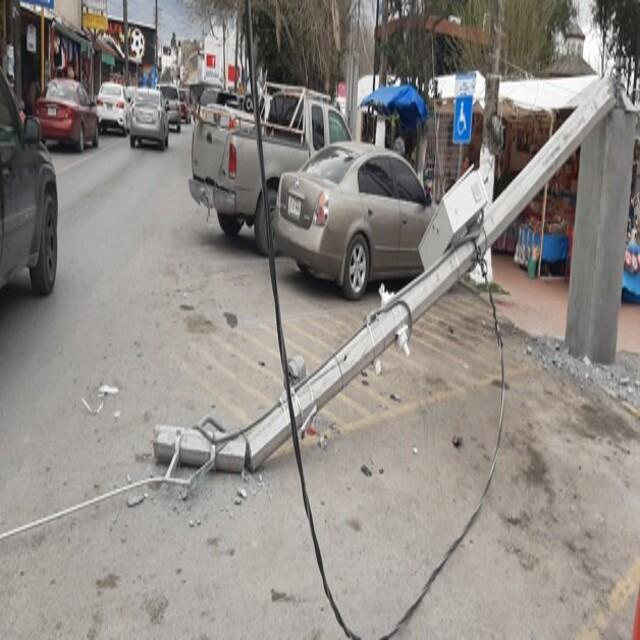Inclined Pole: (137, 64, 638, 481)
